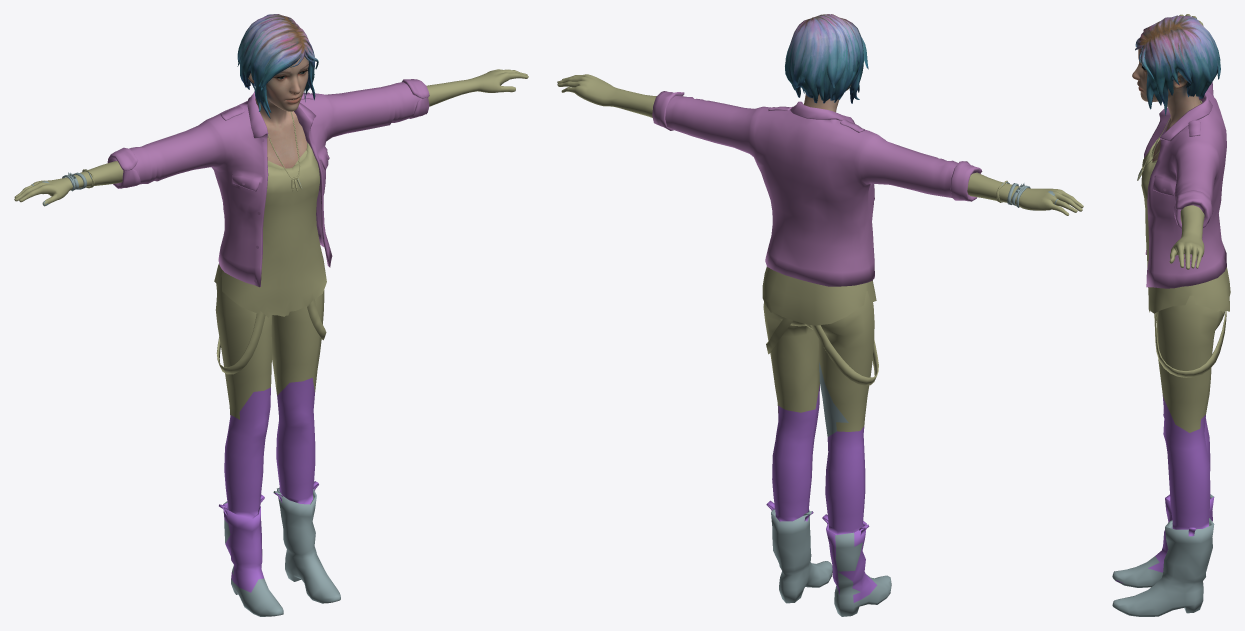
The picture shows the model from 3 angles, left to right: view 1: azimuth 30°, elevation 25°; view 2: azimuth 150°, elevation 25°; view 3: azimuth 270°, elevation 25°; orthographic projection. The views are drawn at different scales.
Visible parts, largest first — view 1: 5_CHMChloe02EP_0.1_0_0, 4_+MTMChloe01cBody.MTMChloe01cBody_0.1_0_0, 5_CHMChloe02EP4_0.1_0_0, 5_MTMChloeVeste01DOnOff_0.1_0_0, 4_MTMChloeUnderwear01Hair_0.1_0_0, 5_MTMChloe02Head_0.1_0_0; view 2: 4_+MTMChloe01cBody.MTMChloe01cBody_0.1_0_0, 5_CHMChloe02EP_0.1_0_0, 5_CHMChloe02EP4_0.1_0_0, 5_MTMChloeVeste01DOnOff_0.1_0_0, 4_MTMChloeUnderwear01Hair_0.1_0_0; view 3: 4_+MTMChloe01cBody.MTMChloe01cBody_0.1_0_0, 5_CHMChloe02EP_0.1_0_0, 5_MTMChloeVeste01DOnOff_0.1_0_0, 4_MTMChloeUnderwear01Hair_0.1_0_0, 5_CHMChloe02EP4_0.1_0_0, 5_MTMChloe02Head_0.1_0_0.
Part boxes in pixels (x1,y1,x2,y2): 5_CHMChloe02EP_0.1_0_0: (14,69,528,419); 4_+MTMChloe01cBody.MTMChloe01cBody_0.1_0_0: (107,79,429,287); 5_CHMChloe02EP4_0.1_0_0: (219,377,318,592); 5_MTMChloeVeste01DOnOff_0.1_0_0: (31,169,340,616); 4_MTMChloeUnderwear01Hair_0.1_0_0: (237,14,318,118); 5_MTMChloe02Head_0.1_0_0: (248,55,308,168); 4_+MTMChloe01cBody.MTMChloe01cBody_0.1_0_0: (652,91,982,286); 5_CHMChloe02EP_0.1_0_0: (557,74,1083,431); 5_CHMChloe02EP4_0.1_0_0: (766,384,877,602); 5_MTMChloeVeste01DOnOff_0.1_0_0: (771,182,1058,616); 4_MTMChloeUnderwear01Hair_0.1_0_0: (785,14,868,103); 4_+MTMChloe01cBody.MTMChloe01cBody_0.1_0_0: (1144,82,1226,288); 5_CHMChloe02EP_0.1_0_0: (1137,14,1230,432); 5_MTMChloeVeste01DOnOff_0.1_0_0: (1112,17,1214,616); 4_MTMChloeUnderwear01Hair_0.1_0_0: (1135,15,1220,115); 5_CHMChloe02EP4_0.1_0_0: (1116,395,1214,583); 5_MTMChloe02Head_0.1_0_0: (1132,48,1200,161).
Bounding box in the file's own units: 1.42 × 1.52 × 0.2808.
